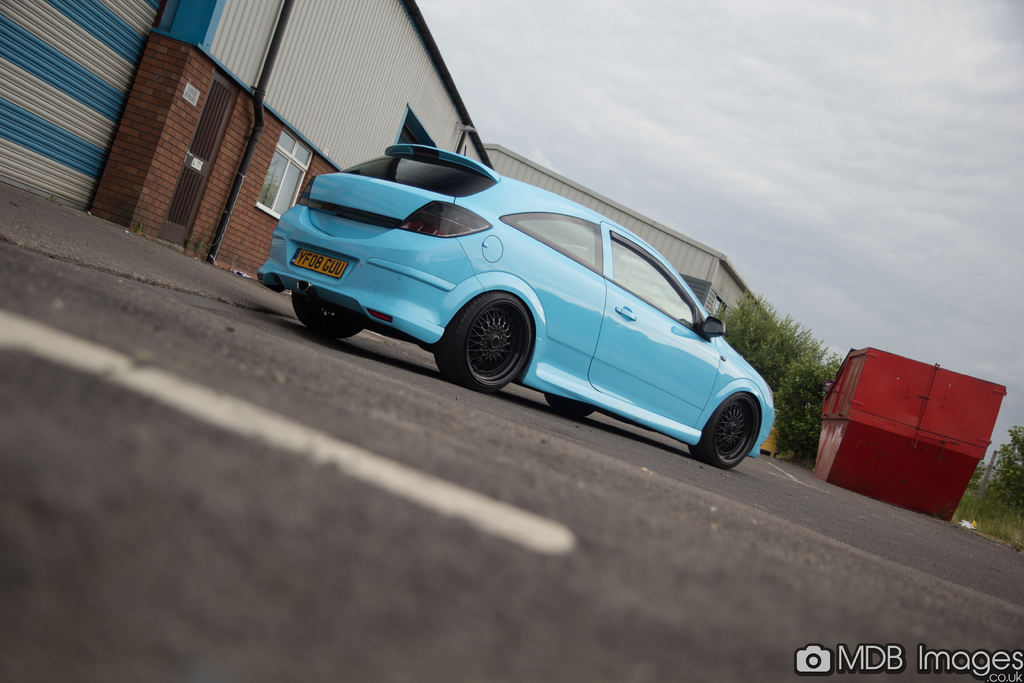Car: (259, 142, 784, 474)
